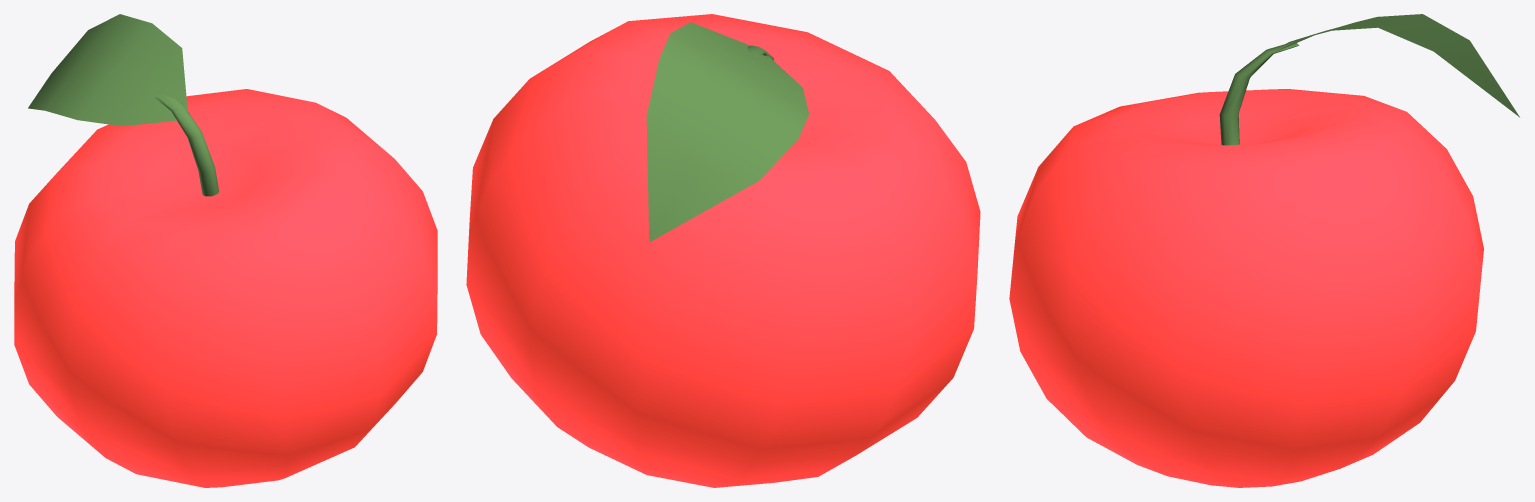
3 views of the same model, side by side, from view 1: azimuth 30°, elevation 25°; view 2: azimuth 150°, elevation 25°; view 3: azimuth 270°, elevation 25° (orthographic). The views are drawn at different scales.
Parts seen in each view (by area): view 1: Object_50.001; view 2: Object_50.001; view 3: Object_50.001.
Boxes of the visible parts, x1,y1,x2,y2 form: Object_50.001: (14, 14, 437, 487); Object_50.001: (466, 14, 980, 487); Object_50.001: (1009, 14, 1519, 487).
Bounding box in the file's own units: 226 × 235 × 246.
